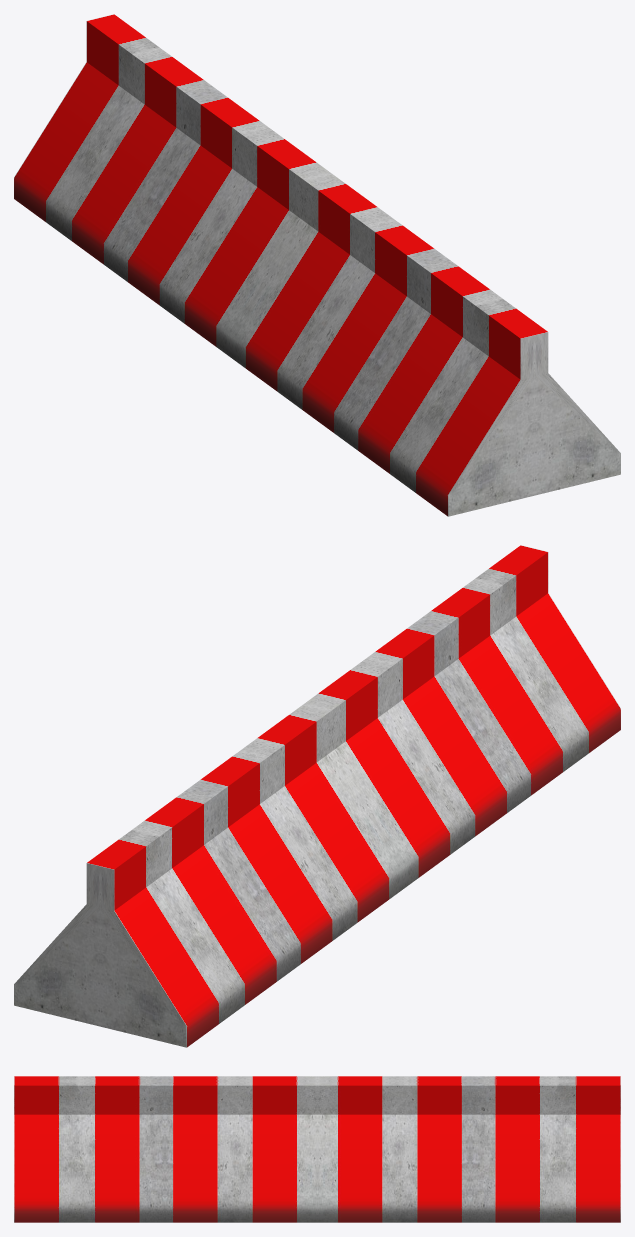
File: Road Block.fbx
3 views of the same model, one above another, from view 1: azimuth 30°, elevation 25°; view 2: azimuth 150°, elevation 25°; view 3: azimuth 270°, elevation 25° (orthographic). The views are drawn at different scales.
Parts seen in each view (by area): view 1: Road_block; view 2: Road_block; view 3: Road_block.
Part boxes in pixels (bbox=[...]): Road_block: bbox=[14, 14, 620, 516]; Road_block: bbox=[14, 545, 620, 1047]; Road_block: bbox=[14, 1076, 620, 1222].
Size of the model in its own units: 10.76 by 9.54 by 46.84.
Materials: 1 (1 with a texture image).
